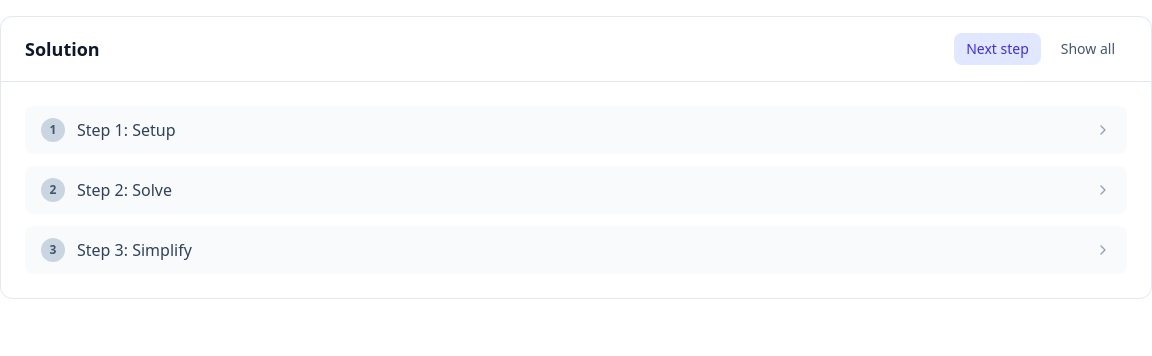
Test: StepByStep › clicking "Next step" reveals the next unrevealed step
Click the button "Next step". click: (997, 49)
box: [954, 33, 1041, 65]
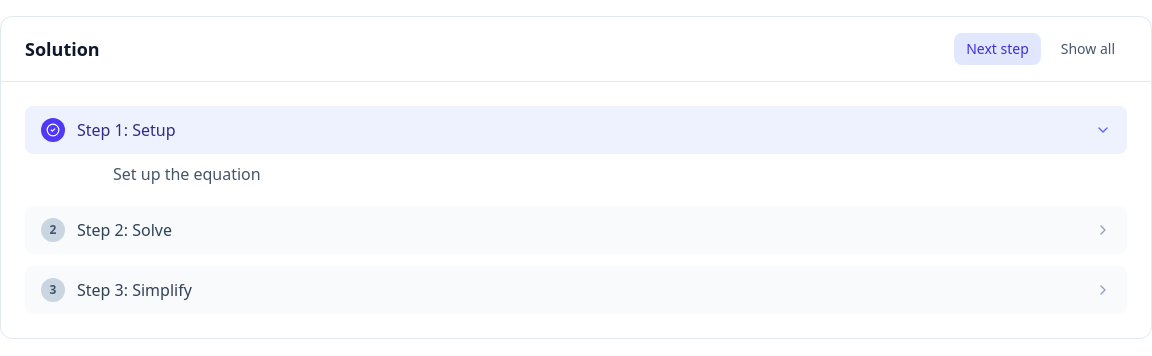
Now the text "Set up the equation" is shown, box [113, 163, 261, 185]
